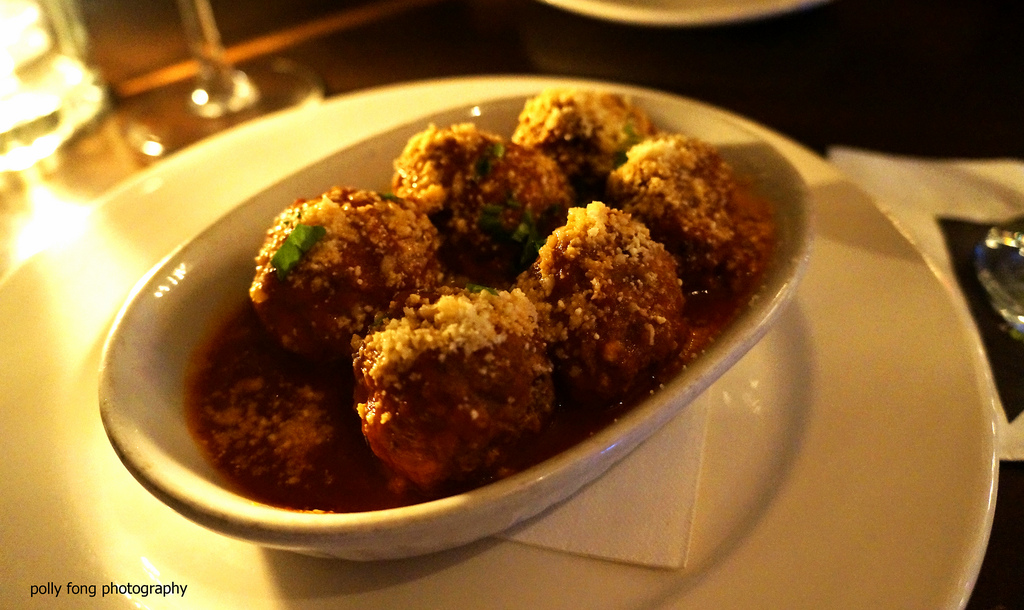meatballs: (283, 100, 775, 462), (350, 277, 555, 466), (255, 192, 435, 356), (534, 208, 695, 385), (404, 120, 566, 259), (609, 136, 758, 269)
